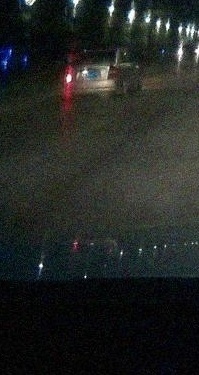L_light: (65, 68, 76, 83)
R_light: (108, 65, 119, 79)
T_light: (91, 51, 102, 54)
night-left: (65, 49, 120, 98)
